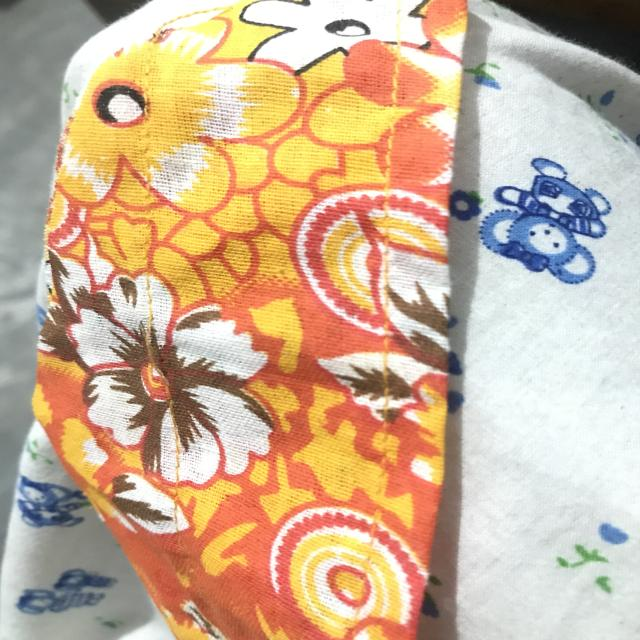skip: (114, 288, 186, 403)
